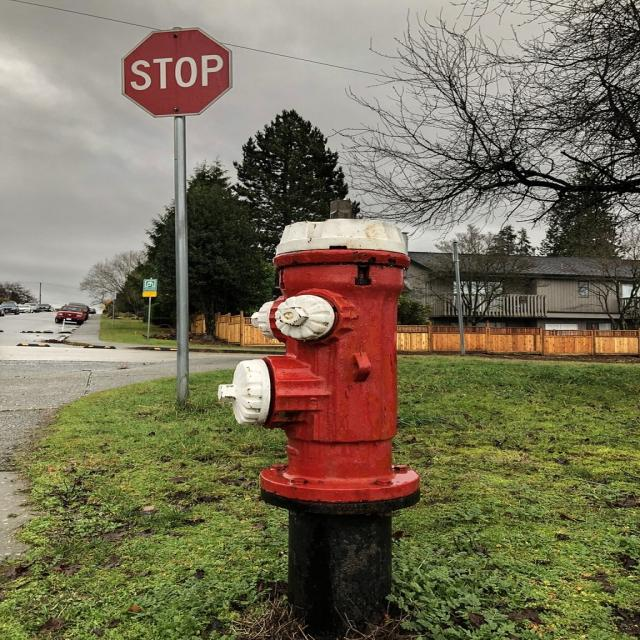fire_hydrant: (186, 197, 514, 625)
